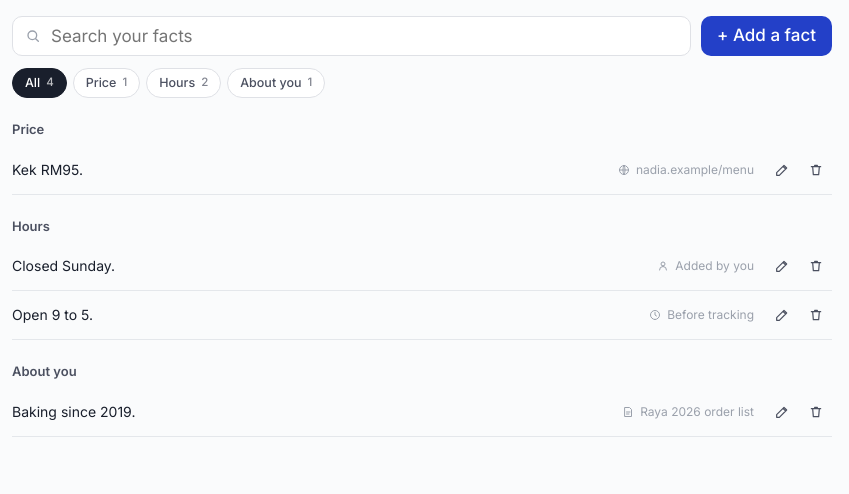
Test case: FactList › says why when removing fails, and keeps the fact
The image size is (849, 494).
Click the button named "Remove fact" in the row of "Kek RM95." at (816, 170), box [800,154,832,186]
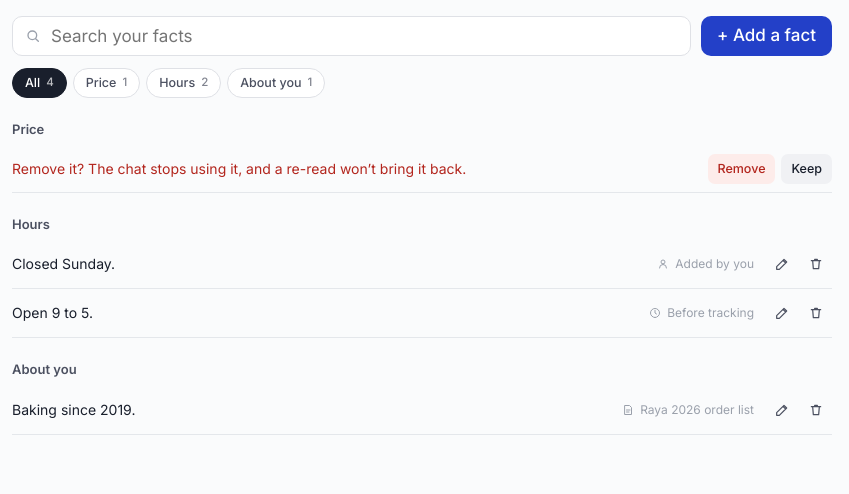
Click the button "Remove" at (742, 168), box [708,154,776,184]
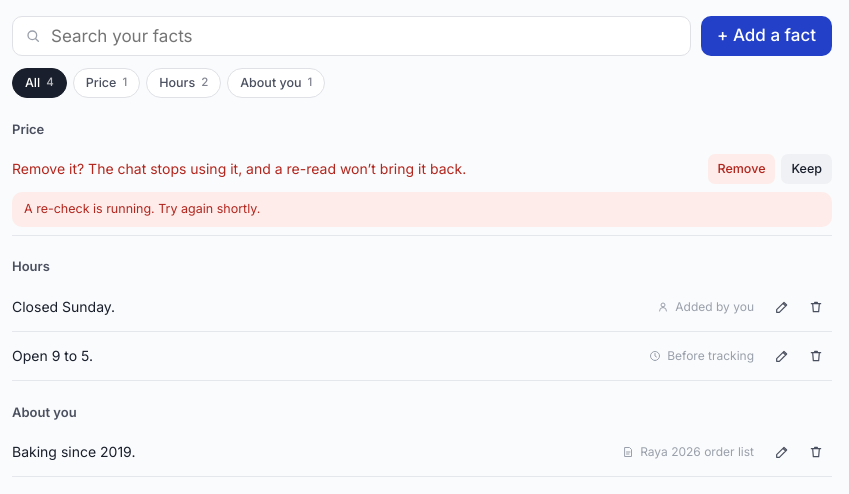
Now the text "A re-check is running. Try again shortly." is shown, box [12,192,832,226]
